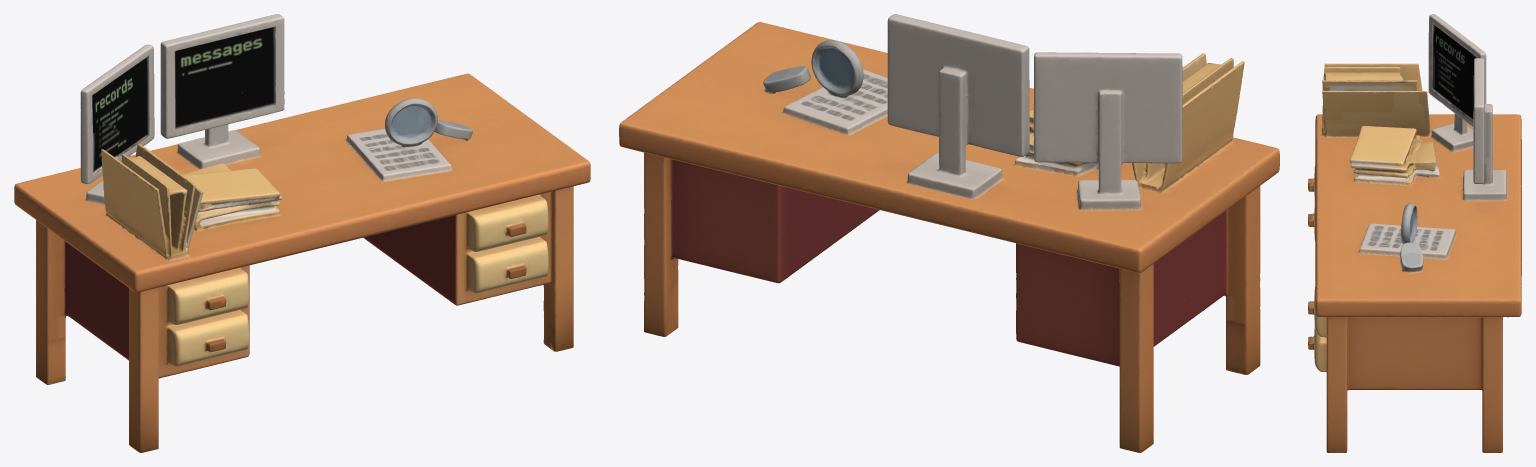
File: Estacion_Carpetas.glb
3 views of the same model, side by side, from view 1: azimuth 30°, elevation 25°; view 2: azimuth 150°, elevation 25°; view 3: azimuth 270°, elevation 25° (orthographic). The views are drawn at different scales.
Bounding box in the file's own units: 1.9 × 1.25 × 0.9182.
Materials: 1 (1 with a texture image).
